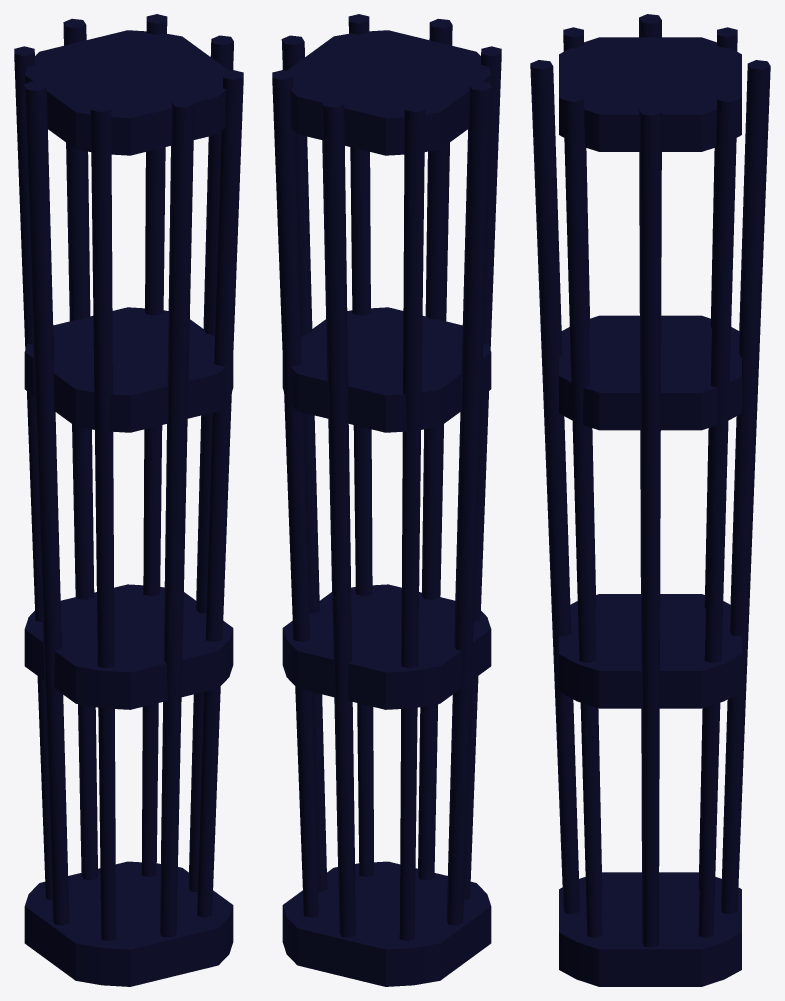
The model's file is SM_fire_stand.fbx.
The picture shows the model from 3 angles, left to right: view 1: azimuth 30°, elevation 25°; view 2: azimuth 150°, elevation 25°; view 3: azimuth 270°, elevation 25°; orthographic projection.
Visible parts, largest first — view 1: fire_stand; view 2: fire_stand; view 3: fire_stand.
Part boxes in pixels (x1,y1,x2,y2): fire_stand: [14, 14, 243, 986]; fire_stand: [272, 14, 501, 986]; fire_stand: [530, 14, 770, 986].
Bounding box in the file's own units: 28.81 × 117 × 28.81.
